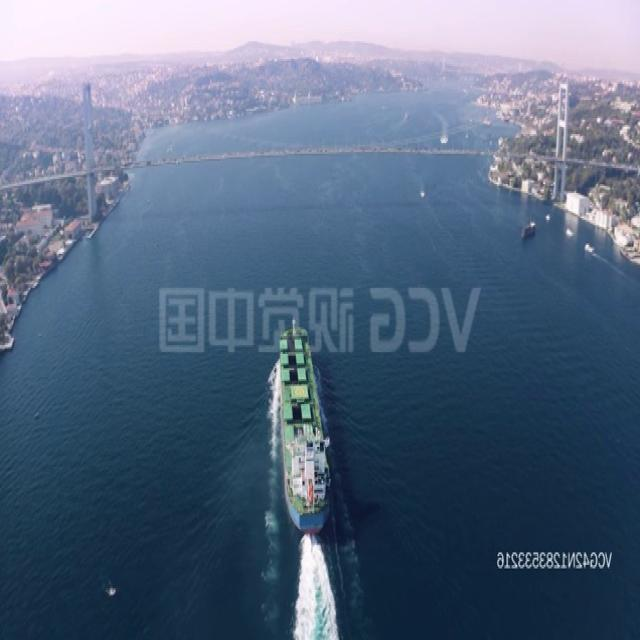cargoship: (273, 313, 330, 530)
